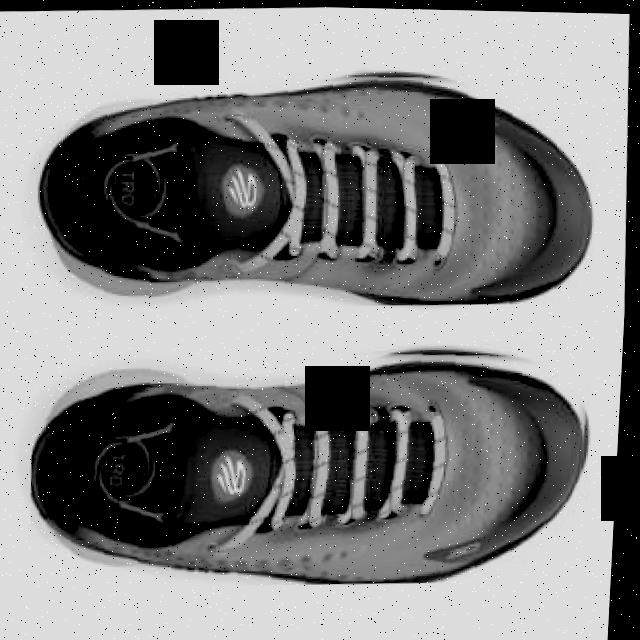shoe: (27, 328, 602, 597), (30, 54, 605, 319)
